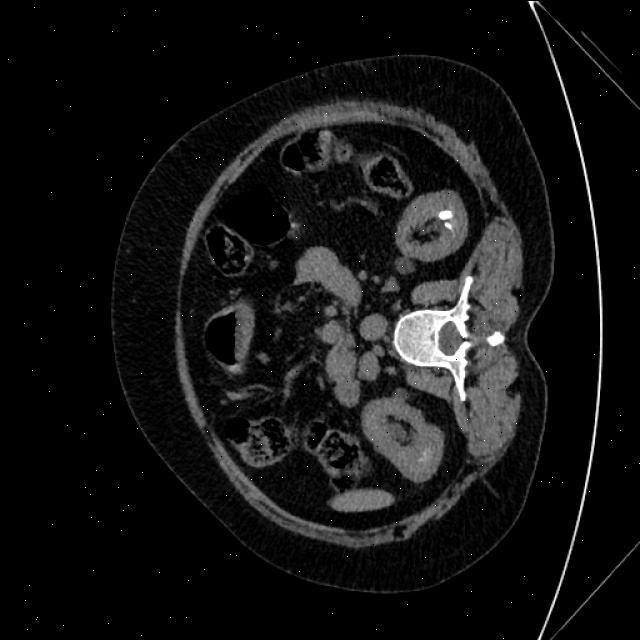kidneystone: (438, 209, 452, 220), (444, 222, 452, 229)
